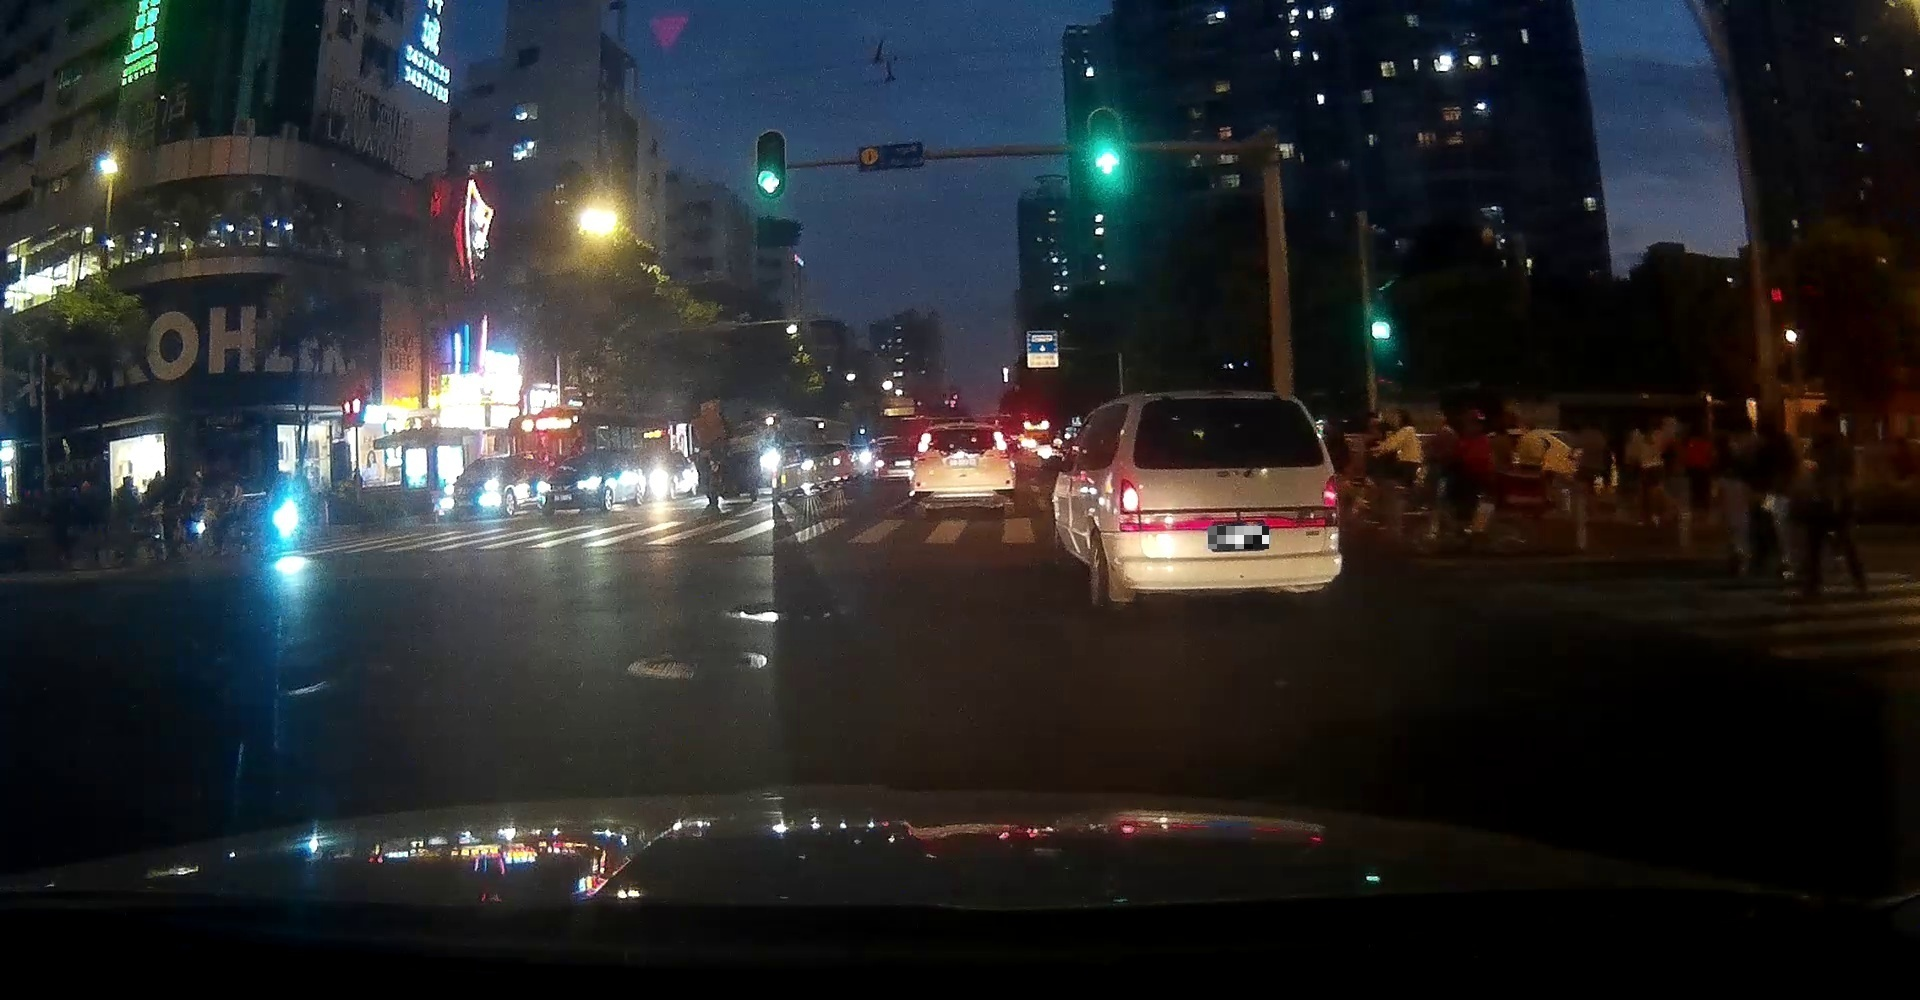L_light: (1121, 478, 1139, 513), (917, 433, 932, 452)
R_light: (1322, 475, 1338, 506), (992, 431, 1008, 451)
T_light: (1206, 398, 1238, 407), (954, 430, 973, 437)
night-left: (1112, 392, 1342, 607)
night-no: (910, 423, 1016, 509)
plate_1: (1208, 525, 1269, 549)
